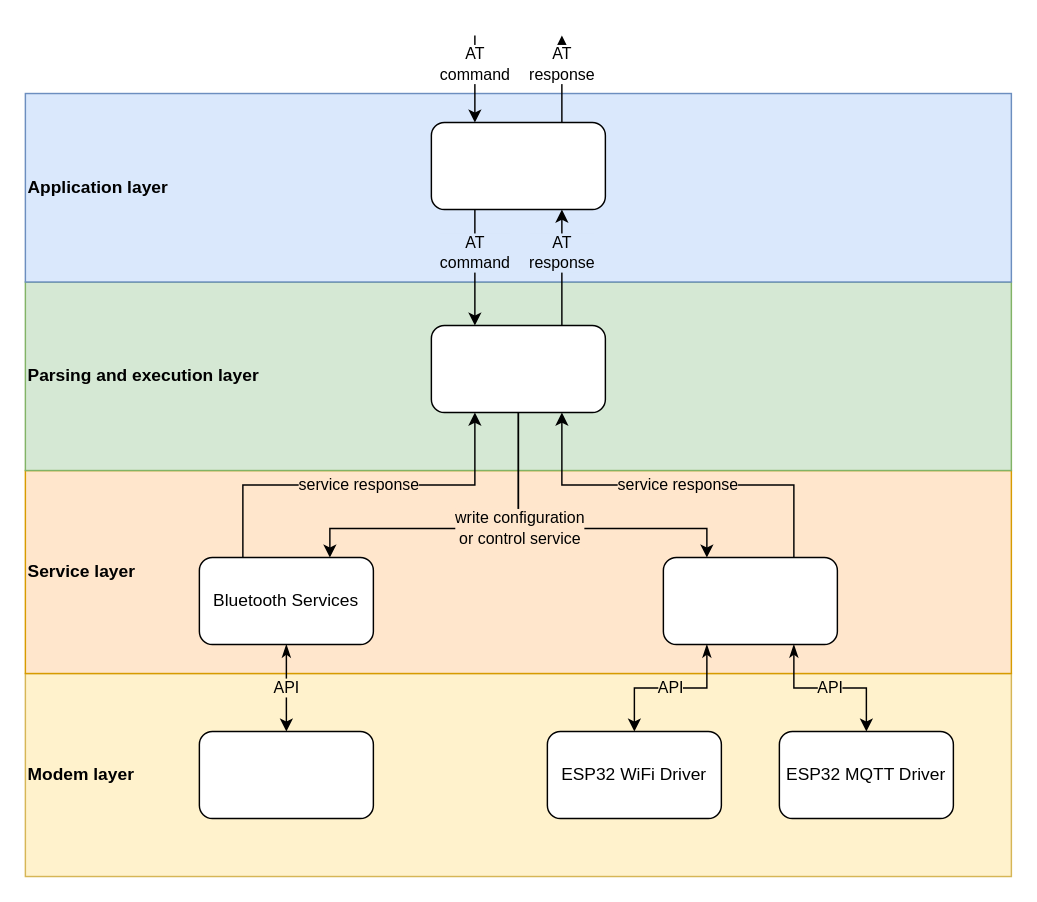
The diagram is 1037 pixels wide and 902 high, and some of its shapes have lost their labels. Here are the shapes that lost their labels. From the top down, the centre of each, then its label:
At point 517,165: "AT command handling task".
At point 517,368: "AT command parsing and execution".
At point 749,600: "MQTT service Abstraction".
At point 285,774: "ESP32 Bluetooth Driver".
